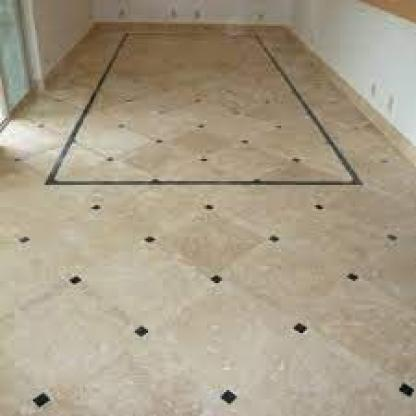Ceramic floor: (0, 17, 416, 416)
